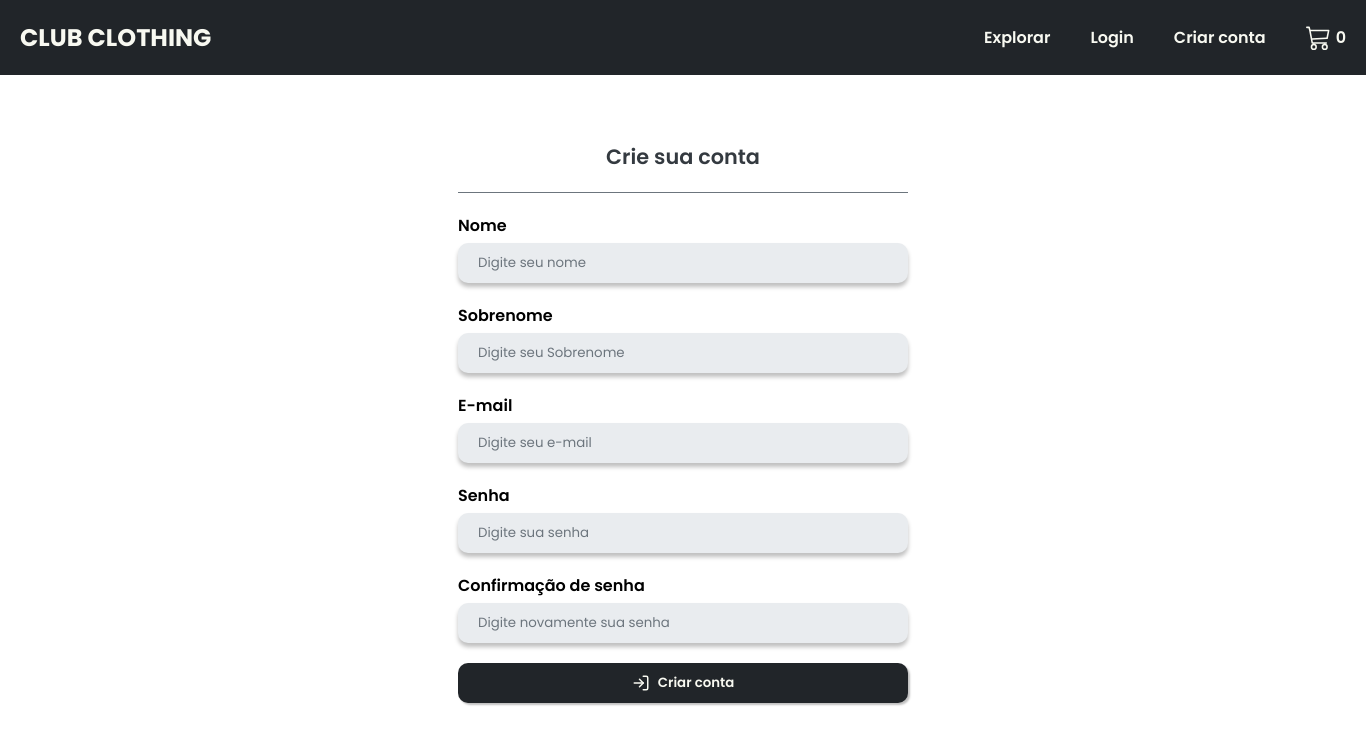
Scenario: Sign Up › should show error when filling an invalid email
Type "invalid-email" into the field with placeholder "Digite seu e-mail" at coordinates (683, 442), box 458,422 -> 908,462
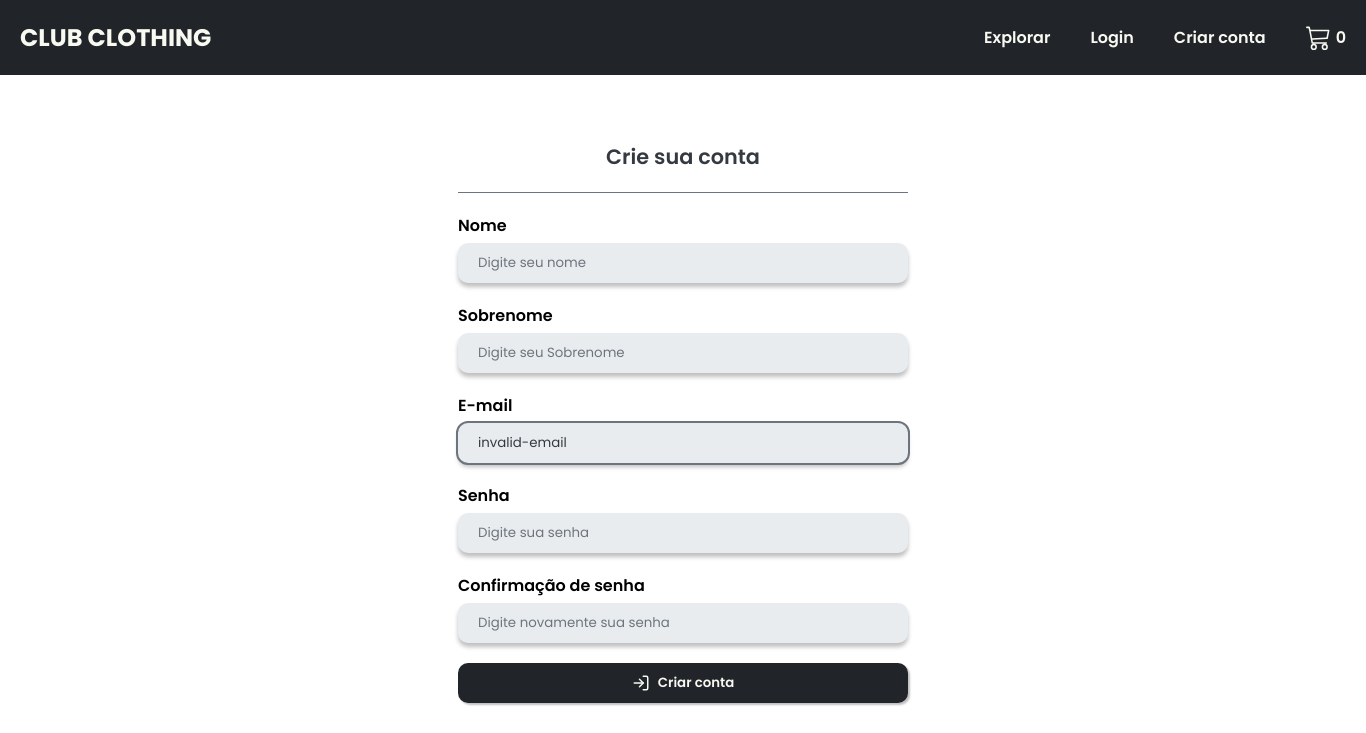
Click the button "Criar conta" at coordinates (683, 682), box 458,662 -> 908,702
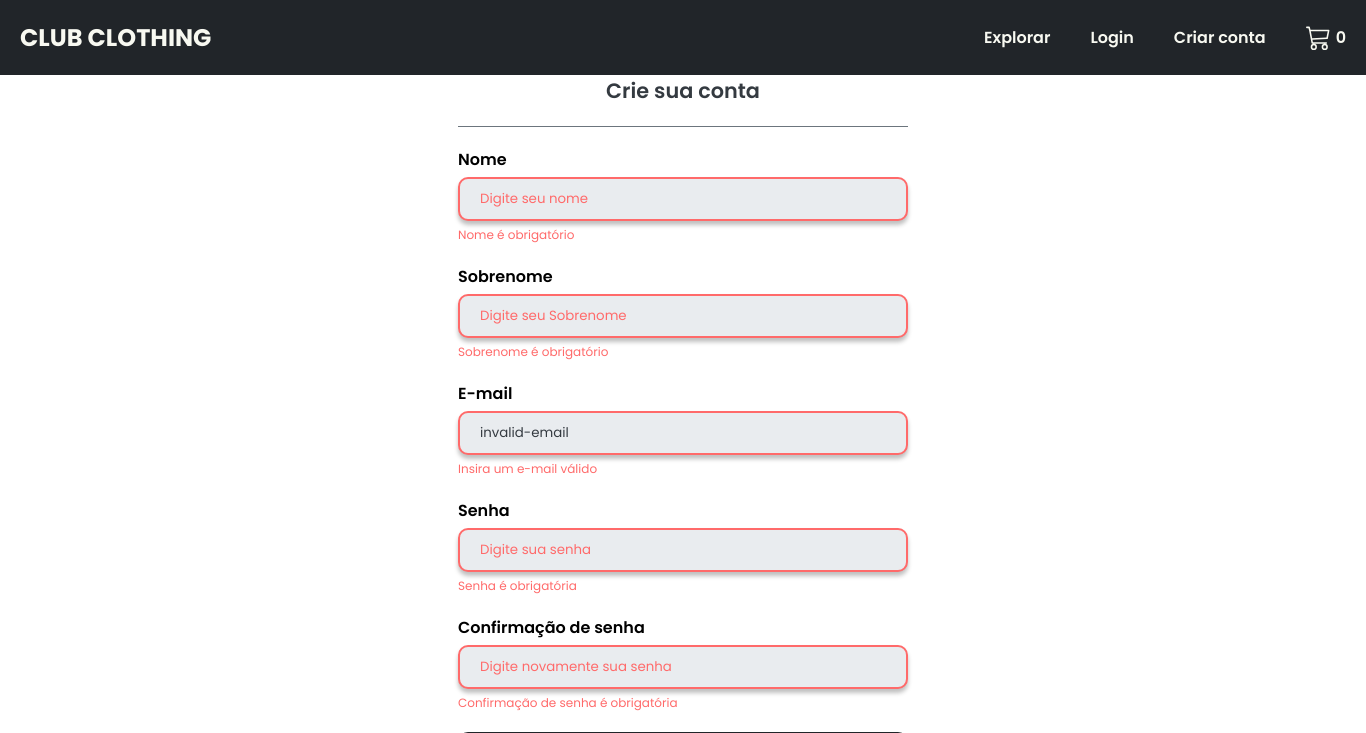
Check: the text "Insira um e-mail válido" is shown, box 458,460 -> 597,477
